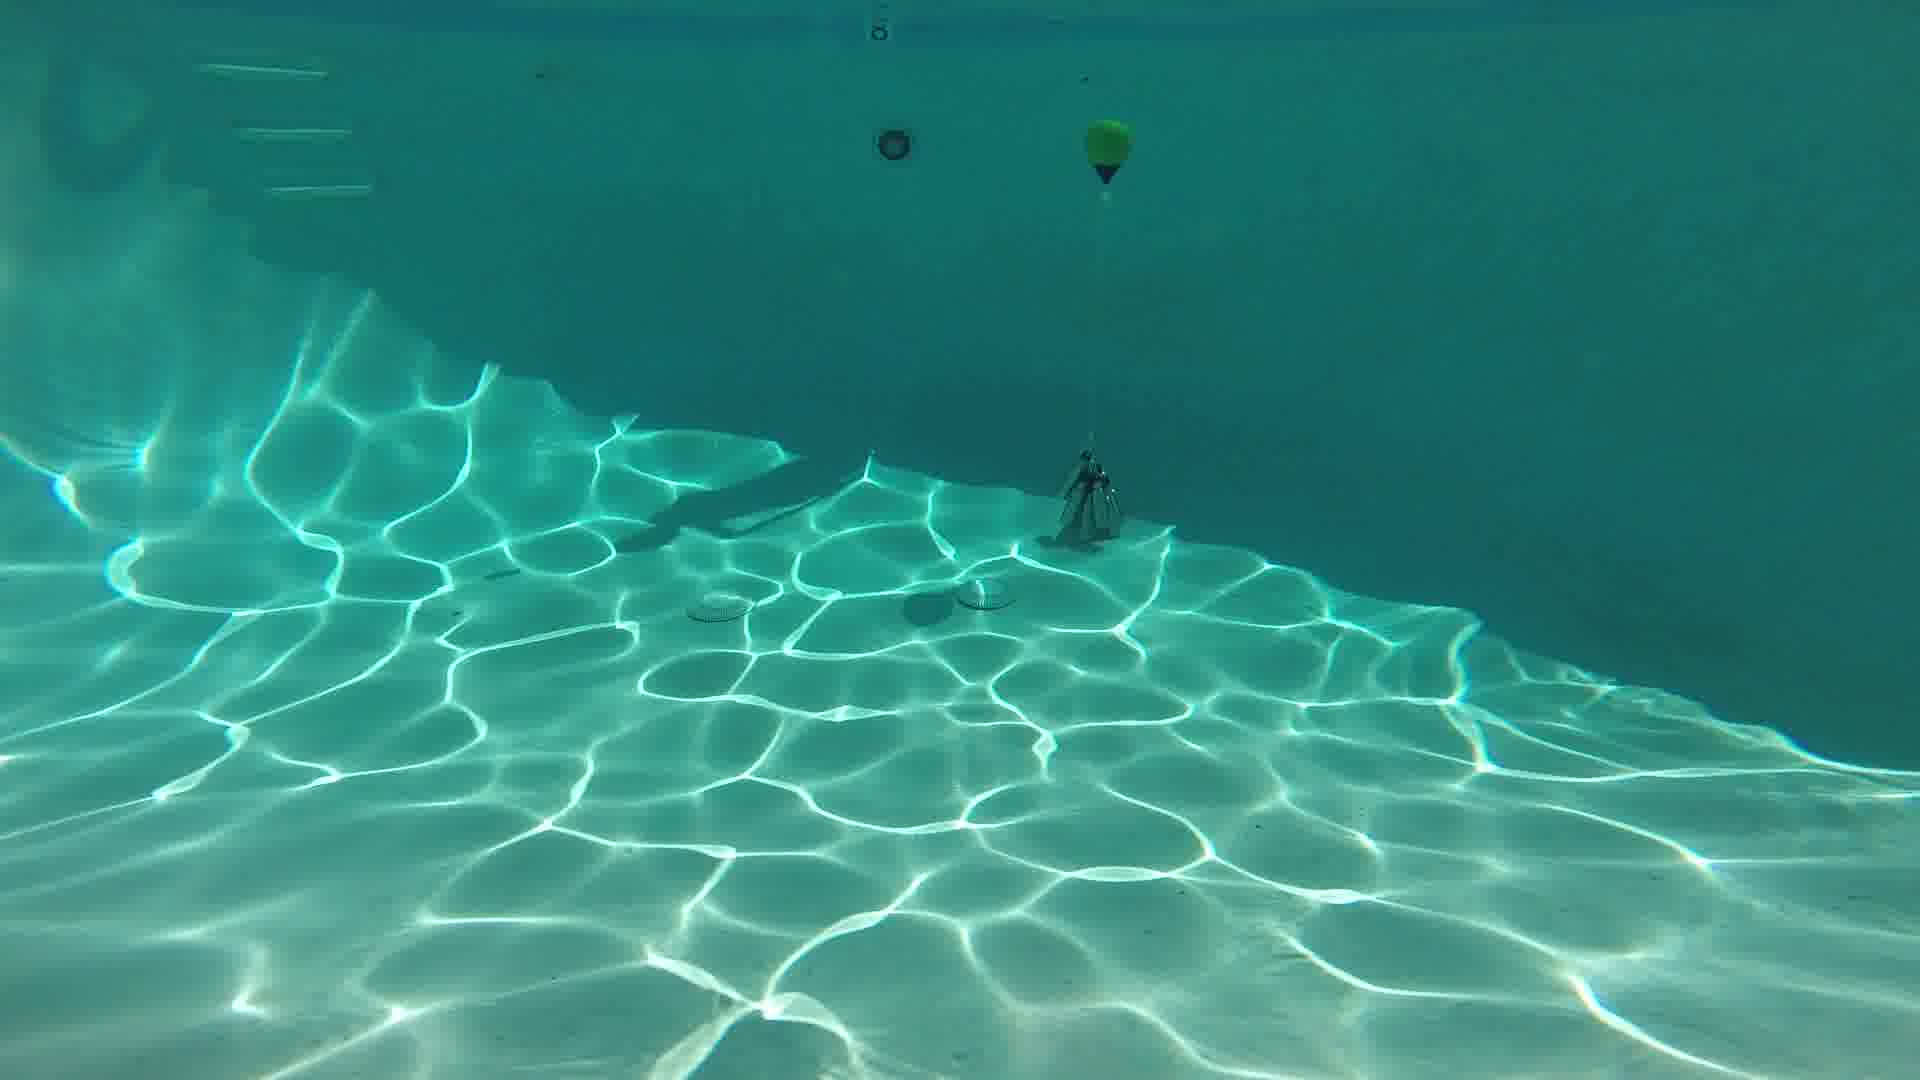yellow_buoy: (1085, 117, 1131, 186)
